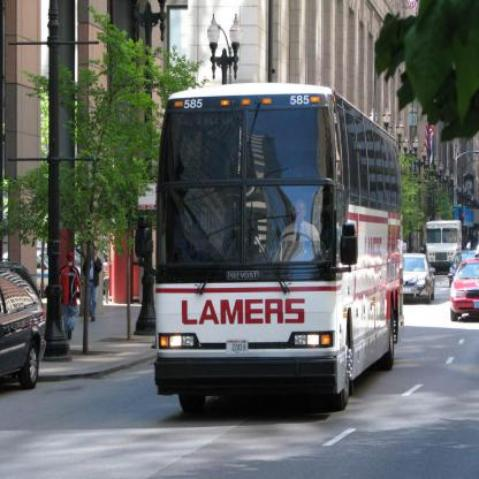bus: (154, 26, 402, 432), (424, 217, 464, 274)
car: (0, 263, 47, 392), (397, 253, 438, 304), (449, 256, 479, 322)
